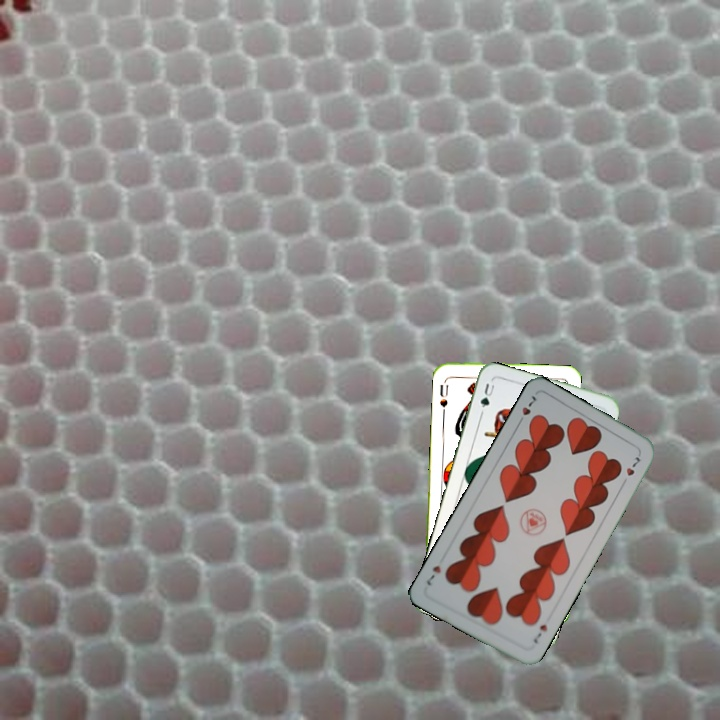GU: (476, 379, 498, 410)
H7: (513, 391, 539, 428), (529, 620, 550, 646)
SU: (436, 380, 451, 410)
